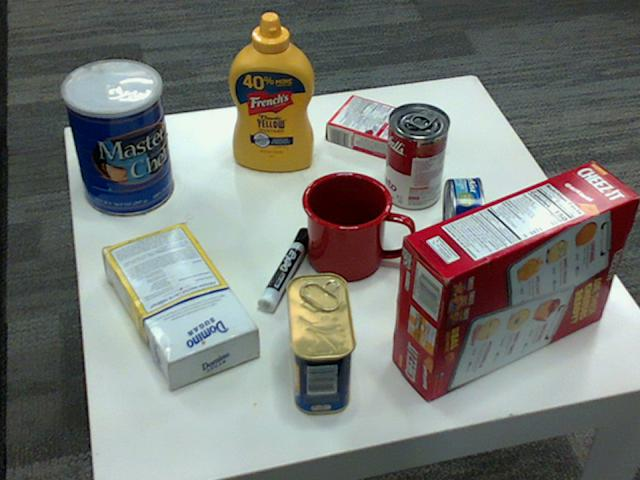cracker_box: (391, 160, 638, 399)
gelatin_box: (328, 94, 414, 156)
large_marker: (255, 229, 312, 316)
master_chef_can: (59, 60, 171, 216)
mug: (301, 169, 411, 278)
mustard_bottle: (228, 13, 313, 171)
potted_meat_can: (286, 274, 357, 414)
sugar_box: (100, 220, 257, 384)
tomato_soup_can: (383, 103, 448, 210)
tuna_fish_can: (441, 177, 483, 257)
